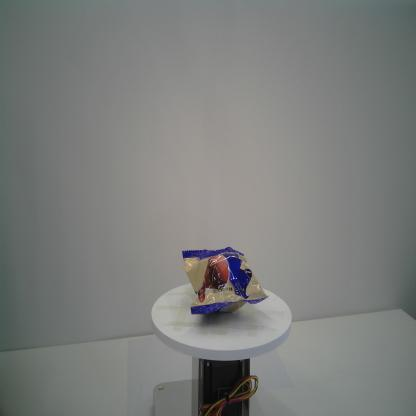Dessert: (182, 247, 270, 316)
